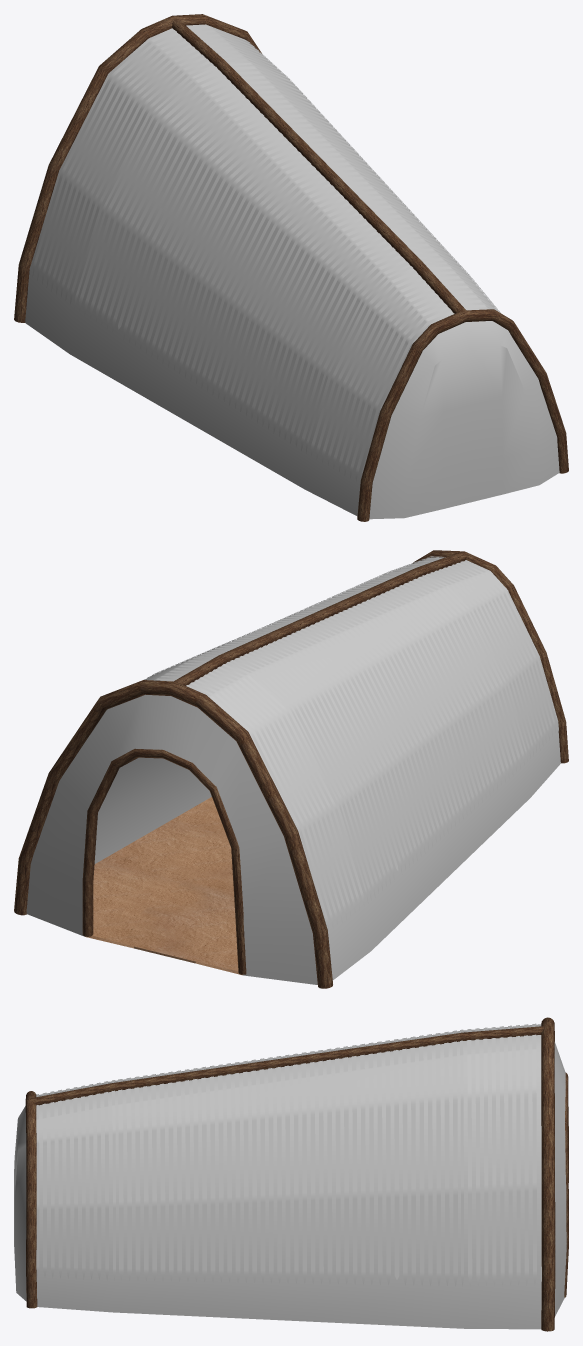
The model's file is casa Fase 1.fbx.
3 renders of one model, top to bottom at view 1: azimuth 30°, elevation 25°; view 2: azimuth 150°, elevation 25°; view 3: azimuth 270°, elevation 25°, orthographic. The views are drawn at different scales.
Parts seen in each view (by area): view 1: Casa Fase 1, paja, vigas soporte; view 2: Casa Fase 1, paja, vigas soporte; view 3: Casa Fase 1, paja, vigas soporte.
Part boxes in pixels (bbox=[...]): Casa Fase 1: bbox=[25, 24, 559, 519]; paja: bbox=[32, 26, 500, 481]; vigas soporte: bbox=[14, 14, 568, 521]; Casa Fase 1: bbox=[26, 557, 560, 984]; paja: bbox=[144, 556, 558, 931]; vigas soporte: bbox=[14, 550, 568, 988]; Casa Fase 1: bbox=[14, 1024, 566, 1329]; paja: bbox=[36, 1023, 536, 1286]; vigas soporte: bbox=[25, 1017, 568, 1331].
Size of the model in its own units: 248 by 422 by 200.
